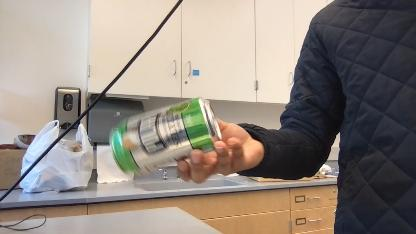Can: (108, 94, 228, 179)
